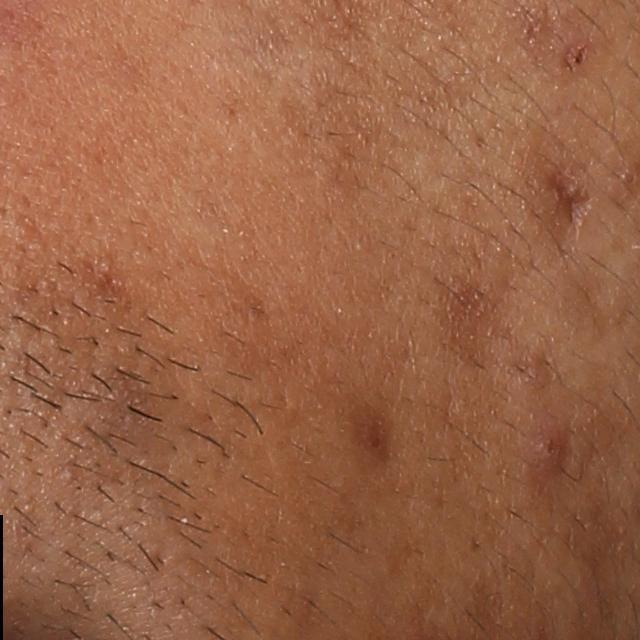atrophic_scar: (543, 175, 590, 243)
papule: (518, 422, 573, 470)
